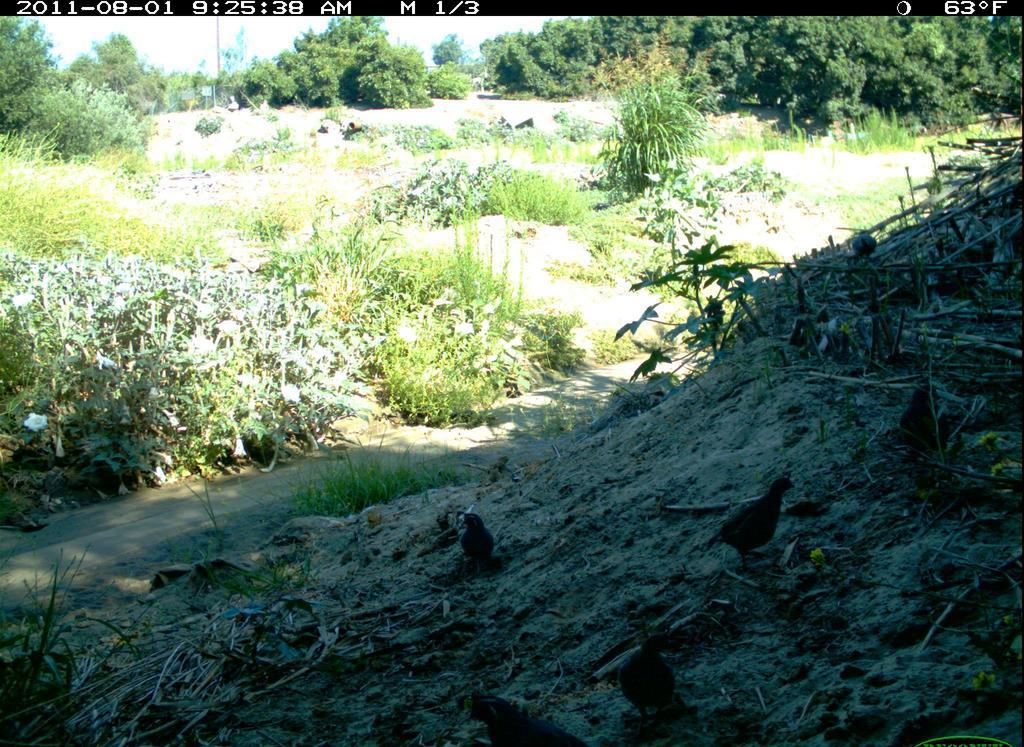bird: (851, 228, 881, 261)
